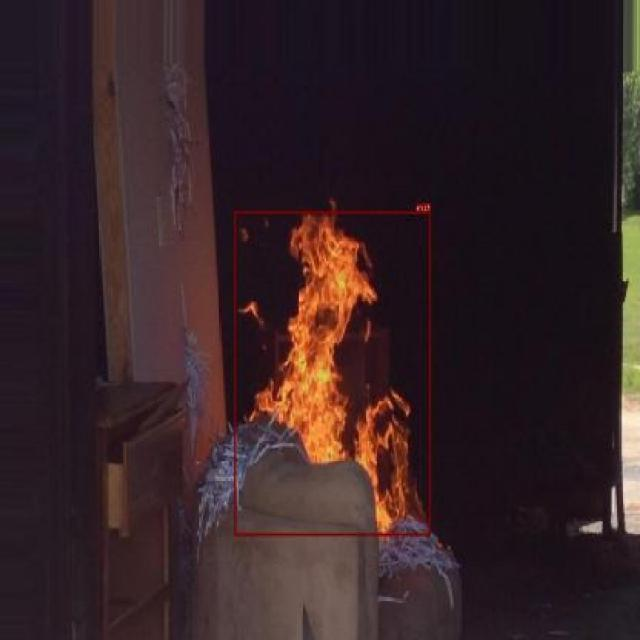Fire: (234, 210, 432, 536)
